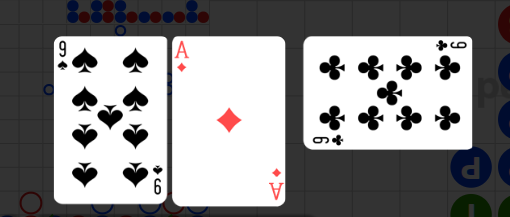9C: (434, 40, 468, 53)
9S: (56, 40, 69, 73)
AD: (267, 165, 284, 201)
